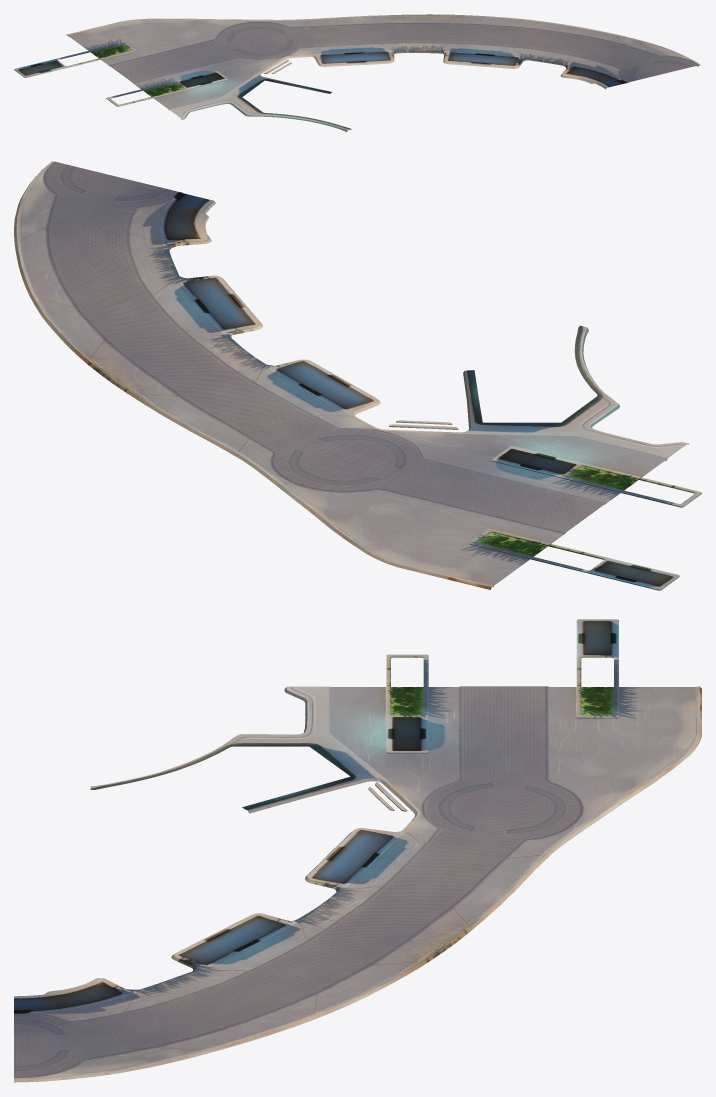
File: pref_sm_beach_techsmall_001_bk_main_road02_lv2.fbx
3 views of the same model, one above another, from view 1: azimuth 30°, elevation 25°; view 2: azimuth 150°, elevation 25°; view 3: azimuth 270°, elevation 25° (orthographic). The views are drawn at different scales.
Parts seen in each view (by area): view 1: pref_sm_beach_techsmall_001_bk_main_road02_lv2; view 2: pref_sm_beach_techsmall_001_bk_main_road02_lv2; view 3: pref_sm_beach_techsmall_001_bk_main_road02_lv2.
Boxes of the visible parts, x1=… form: pref_sm_beach_techsmall_001_bk_main_road02_lv2: x1=14, y1=14, x2=701, y2=132; pref_sm_beach_techsmall_001_bk_main_road02_lv2: x1=14, y1=161, x2=701, y2=590; pref_sm_beach_techsmall_001_bk_main_road02_lv2: x1=14, y1=619, x2=701, y2=1082.
Bounding box in the file's own units: 55.5 × 0.2236 × 35.07.
